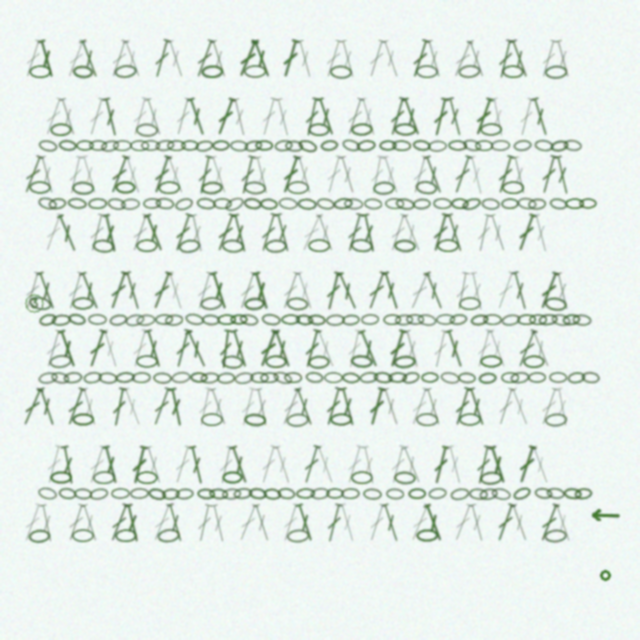chain: (28, 295, 52, 312), (224, 195, 245, 213), (178, 238, 201, 254), (544, 296, 567, 312), (114, 64, 137, 79), (458, 64, 481, 79), (415, 180, 438, 195), (350, 238, 373, 253), (200, 296, 223, 311), (49, 354, 72, 369), (350, 354, 373, 369), (157, 528, 180, 543), (512, 485, 532, 502), (297, 138, 318, 154), (461, 196, 482, 212), (272, 370, 293, 386), (92, 239, 115, 253), (286, 297, 309, 311), (221, 355, 244, 369), (393, 355, 416, 369), (286, 413, 309, 427), (28, 529, 51, 543), (544, 529, 567, 543), (174, 196, 194, 212), (37, 196, 58, 211), (184, 312, 205, 327), (37, 486, 58, 501), (72, 65, 94, 79), (330, 65, 352, 79), (545, 65, 567, 79), (136, 123, 158, 137), (72, 181, 94, 195), (201, 181, 223, 195), (244, 181, 266, 195), (373, 181, 395, 195), (222, 239, 244, 253), (265, 239, 287, 253), (394, 239, 416, 253), (308, 355, 330, 369), (244, 413, 266, 427), (545, 413, 567, 427), (394, 471, 416, 485), (480, 471, 502, 485), (287, 529, 309, 543), (341, 138, 361, 153), (462, 138, 482, 153), (38, 312, 58, 327), (67, 312, 87, 327), (401, 370, 421, 385), (244, 297, 265, 311), (29, 65, 51, 78), (201, 65, 223, 78), (244, 65, 266, 78), (416, 65, 438, 78), (502, 65, 524, 78), (50, 123, 72, 136), (308, 123, 330, 136), (351, 123, 373, 136), (394, 123, 416, 136), (480, 123, 502, 136), (29, 181, 51, 194), (158, 181, 180, 194), (287, 181, 309, 194), (502, 181, 524, 194), (136, 239, 158, 252), (308, 239, 330, 252), (437, 239, 459, 252), (72, 297, 94, 310), (459, 297, 481, 310), (136, 355, 158, 368), (265, 355, 287, 368), (480, 355, 502, 368), (523, 355, 545, 368), (72, 413, 94, 426), (201, 413, 223, 426), (330, 413, 352, 426), (416, 413, 438, 426), (459, 413, 481, 426), (50, 471, 72, 484), (93, 471, 115, 484), (136, 471, 158, 484), (351, 471, 373, 484), (72, 529, 94, 542), (115, 529, 137, 542), (416, 529, 438, 542), (38, 139, 58, 153), (100, 139, 120, 153), (395, 197, 415, 211), (125, 313, 145, 327), (239, 313, 259, 327), (417, 313, 437, 327), (501, 313, 521, 327), (551, 313, 571, 327), (38, 371, 58, 385), (50, 371, 70, 385), (234, 371, 254, 385), (440, 371, 460, 385), (89, 487, 109, 501), (147, 487, 167, 501), (450, 487, 470, 501), (491, 487, 511, 501), (115, 181, 136, 194), (222, 471, 243, 484), (195, 139, 214, 153), (244, 139, 263, 153), (550, 139, 569, 153), (107, 197, 126, 211), (316, 197, 335, 211), (549, 197, 568, 211), (109, 313, 128, 327), (470, 313, 489, 327), (479, 487, 498, 501), (155, 139, 175, 152), (356, 139, 376, 152), (534, 139, 554, 152), (67, 197, 87, 210), (155, 197, 175, 210), (196, 197, 216, 210), (278, 197, 298, 210), (333, 197, 353, 210), (517, 197, 537, 210), (261, 313, 281, 326), (538, 313, 558, 326), (63, 371, 83, 384), (115, 371, 135, 384), (171, 371, 191, 384), (359, 371, 379, 384), (373, 371, 393, 384), (510, 371, 530, 384), (233, 487, 253, 500), (310, 487, 330, 500), (58, 139, 77, 152), (274, 139, 293, 152), (320, 139, 339, 152), (412, 139, 431, 152), (513, 139, 532, 152), (563, 139, 582, 152), (48, 197, 67, 210), (243, 197, 262, 210), (449, 313, 468, 326), (562, 313, 581, 326), (83, 371, 102, 384), (305, 371, 324, 384), (567, 371, 586, 384), (581, 371, 600, 384), (58, 487, 77, 500), (248, 487, 267, 500), (277, 487, 296, 500), (428, 487, 447, 500), (534, 487, 553, 500), (546, 487, 565, 500), (563, 487, 582, 500), (574, 487, 593, 500), (297, 198, 317, 210), (51, 314, 71, 326), (136, 314, 156, 326), (572, 314, 592, 326), (98, 372, 118, 384), (200, 372, 220, 384), (428, 140, 447, 152), (121, 198, 140, 210), (344, 198, 363, 210), (481, 198, 500, 210), (295, 314, 314, 326), (307, 314, 326, 326), (326, 314, 345, 326), (153, 372, 172, 384), (478, 372, 497, 384), (175, 488, 194, 500), (209, 488, 228, 500), (222, 488, 241, 500), (263, 488, 282, 500), (363, 488, 382, 500), (469, 488, 488, 500), (230, 140, 248, 152), (285, 140, 303, 152), (260, 198, 278, 210), (364, 198, 382, 210), (413, 198, 431, 210), (528, 198, 546, 210), (165, 314, 183, 326), (202, 314, 220, 326), (342, 314, 360, 326), (395, 314, 413, 326), (217, 372, 235, 384), (342, 372, 360, 384), (458, 372, 476, 384), (74, 488, 92, 500), (162, 488, 180, 500), (197, 488, 215, 500), (386, 488, 404, 500), (113, 140, 132, 151), (130, 140, 149, 151), (141, 140, 160, 151), (167, 140, 186, 151), (392, 140, 411, 151), (448, 140, 467, 151), (491, 140, 510, 151), (88, 198, 107, 209), (213, 198, 232, 209), (385, 198, 404, 209), (433, 198, 452, 209), (565, 198, 584, 209), (88, 314, 107, 325), (217, 314, 236, 325), (281, 314, 300, 325), (436, 314, 455, 325), (483, 314, 502, 325), (517, 314, 536, 325), (132, 372, 151, 383), (250, 372, 269, 383), (260, 372, 279, 383), (324, 372, 343, 383), (388, 372, 407, 383), (111, 488, 130, 499), (130, 488, 149, 499), (296, 488, 315, 499), (341, 488, 360, 499), (76, 140, 94, 151), (89, 140, 107, 151), (181, 140, 199, 151), (212, 140, 230, 151), (255, 140, 273, 151), (379, 140, 397, 151), (475, 140, 493, 151), (143, 198, 161, 209), (451, 198, 469, 209), (501, 198, 519, 209), (579, 198, 597, 209), (155, 314, 173, 325), (230, 314, 248, 325), (361, 314, 379, 325), (383, 314, 401, 325), (406, 314, 424, 325), (529, 314, 547, 325), (190, 372, 208, 383), (284, 372, 302, 383), (421, 372, 439, 383), (501, 372, 519, 383), (528, 372, 546, 383), (549, 372, 567, 383), (326, 488, 344, 499), (408, 488, 426, 499)
double: (449, 39, 476, 79), (54, 213, 81, 253), (298, 213, 325, 253), (334, 271, 361, 311), (406, 271, 433, 311), (183, 329, 210, 369), (19, 387, 46, 427), (63, 38, 89, 79), (235, 38, 261, 79), (20, 154, 46, 195), (106, 154, 132, 195), (141, 212, 167, 253), (399, 212, 425, 253), (77, 270, 103, 311), (149, 270, 175, 311), (421, 270, 447, 311), (536, 270, 562, 311), (313, 328, 339, 369), (356, 328, 382, 369), (514, 328, 540, 369), (528, 328, 554, 369), (278, 386, 304, 427), (507, 386, 533, 427), (399, 444, 425, 485), (106, 502, 132, 543), (149, 502, 175, 543), (235, 502, 261, 543), (407, 502, 433, 543), (450, 502, 476, 543), (536, 502, 562, 543), (77, 38, 102, 79), (120, 38, 145, 79), (192, 38, 217, 79), (249, 38, 274, 79), (464, 38, 489, 79), (507, 38, 532, 79), (41, 96, 66, 137), (213, 96, 238, 137), (399, 96, 424, 137), (471, 96, 496, 137), (163, 154, 188, 195), (278, 154, 303, 195), (421, 154, 446, 195), (450, 154, 475, 195), (41, 212, 66, 253), (213, 212, 238, 253), (313, 212, 338, 253), (514, 212, 539, 253), (34, 270, 59, 311), (106, 270, 131, 311), (235, 270, 260, 311), (278, 270, 303, 311), (364, 270, 389, 311), (493, 270, 518, 311), (55, 328, 80, 369), (256, 328, 281, 369), (270, 328, 295, 369), (485, 328, 510, 369), (63, 386, 88, 427), (120, 386, 145, 427), (149, 386, 174, 427), (206, 386, 231, 427), (292, 386, 317, 427), (407, 386, 432, 427), (227, 444, 252, 485), (313, 444, 338, 485), (528, 444, 553, 485), (20, 502, 45, 543), (421, 502, 446, 543), (493, 502, 518, 543), (507, 502, 532, 543), (21, 38, 45, 79), (107, 38, 131, 79), (164, 38, 188, 79), (207, 38, 231, 79), (379, 38, 403, 79), (408, 38, 432, 79), (56, 96, 80, 137), (142, 96, 166, 137), (185, 96, 209, 137), (314, 96, 338, 137), (343, 96, 367, 137), (121, 154, 145, 195), (150, 154, 174, 195), (207, 154, 231, 195), (379, 154, 403, 195), (128, 212, 152, 253), (171, 212, 195, 253), (386, 212, 410, 253), (443, 212, 467, 253), (486, 212, 510, 253), (207, 270, 231, 311), (293, 270, 317, 311), (379, 270, 403, 311), (85, 328, 109, 369), (443, 328, 467, 369), (35, 386, 59, 427), (379, 386, 403, 427), (465, 386, 489, 427), (494, 386, 518, 427), (537, 386, 561, 427), (85, 444, 109, 485), (142, 444, 166, 485), (271, 444, 295, 485), (486, 444, 510, 485), (515, 444, 539, 485), (64, 502, 88, 543), (78, 502, 102, 543), (250, 502, 274, 543), (293, 502, 317, 543), (365, 502, 389, 543), (379, 502, 403, 543), (551, 502, 575, 543), (35, 38, 58, 79), (279, 38, 302, 79), (322, 38, 345, 79), (365, 38, 388, 79), (537, 38, 560, 79), (85, 96, 108, 137), (357, 96, 380, 137), (386, 96, 409, 137), (529, 96, 552, 137), (78, 154, 101, 195), (293, 154, 316, 195), (336, 154, 359, 195), (494, 154, 517, 195), (257, 212, 280, 253), (343, 212, 366, 253), (429, 212, 452, 253), (21, 270, 44, 311), (64, 270, 87, 311), (121, 270, 144, 311), (164, 270, 187, 311), (193, 270, 216, 311), (250, 270, 273, 311), (42, 328, 65, 369), (99, 328, 122, 369), (142, 328, 165, 369), (228, 328, 251, 369), (386, 328, 409, 369), (78, 386, 101, 427), (322, 386, 345, 427), (422, 386, 445, 427), (451, 386, 474, 427), (171, 444, 194, 485), (257, 444, 280, 485), (300, 444, 323, 485), (343, 444, 366, 485), (164, 502, 187, 543), (279, 502, 302, 543), (336, 502, 359, 543), (229, 212, 251, 254), (151, 38, 173, 79), (294, 38, 316, 79), (337, 38, 359, 79), (423, 38, 445, 79), (552, 38, 574, 79), (129, 96, 151, 137), (172, 96, 194, 137), (258, 96, 280, 137), (444, 96, 466, 137), (36, 154, 58, 195), (323, 154, 345, 195), (409, 154, 431, 195), (538, 154, 560, 195), (86, 212, 108, 253), (272, 212, 294, 253), (509, 270, 531, 311), (129, 328, 151, 369), (172, 328, 194, 369), (301, 328, 323, 369), (401, 328, 423, 369), (473, 328, 495, 369), (337, 386, 359, 427), (366, 386, 388, 427), (43, 444, 65, 485), (100, 444, 122, 485), (387, 444, 409, 485), (444, 444, 466, 485), (466, 502, 488, 543), (272, 97, 294, 137), (251, 155, 273, 195), (530, 213, 552, 253), (237, 387, 259, 427), (430, 445, 452, 485), (323, 503, 345, 543), (495, 39, 516, 79), (100, 97, 121, 137), (229, 97, 250, 137), (430, 97, 451, 137), (516, 97, 537, 137), (65, 155, 86, 195), (237, 155, 258, 195), (466, 155, 487, 195), (509, 155, 530, 195), (552, 155, 573, 195), (100, 213, 121, 253), (323, 271, 344, 311), (552, 271, 573, 311), (344, 329, 365, 369), (430, 329, 451, 369), (129, 445, 150, 485), (186, 445, 207, 485), (473, 445, 494, 485), (122, 503, 143, 543), (194, 503, 215, 543), (208, 503, 229, 543), (302, 97, 322, 137), (488, 97, 508, 137), (195, 155, 215, 195), (367, 155, 387, 195), (187, 213, 207, 253), (359, 213, 379, 253), (474, 213, 494, 253), (467, 271, 487, 311), (109, 387, 129, 427), (166, 387, 186, 427), (195, 387, 215, 427), (252, 387, 272, 427), (58, 445, 78, 485), (216, 445, 236, 485), (359, 445, 379, 485), (37, 503, 57, 543), (453, 271, 472, 311), (553, 387, 572, 427), (217, 329, 234, 369)
noise: (23, 292, 46, 315), (589, 509, 620, 521), (599, 569, 612, 582)
